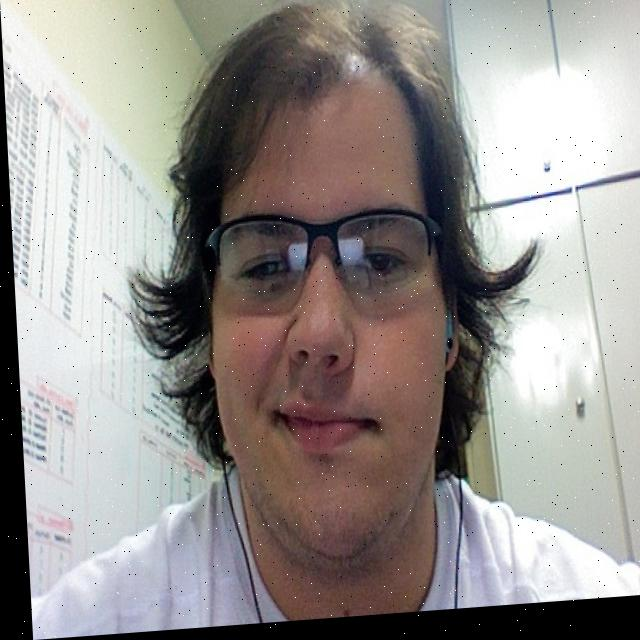opened_eye: (236, 247, 304, 288), (352, 241, 412, 278)
